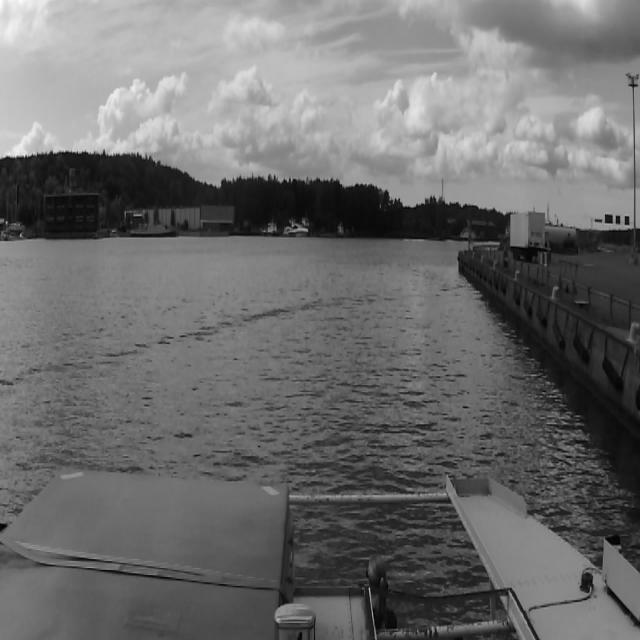ship: (131, 224, 177, 237), (260, 222, 282, 236), (283, 227, 296, 238)
